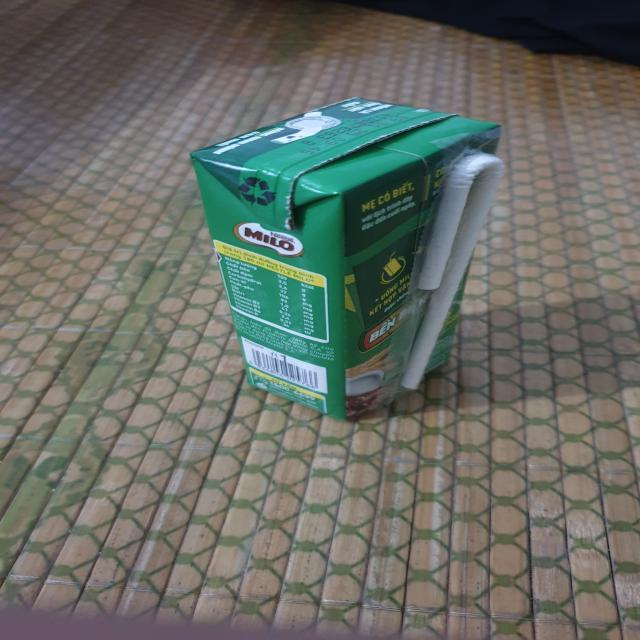Milo: (183, 95, 508, 424)
